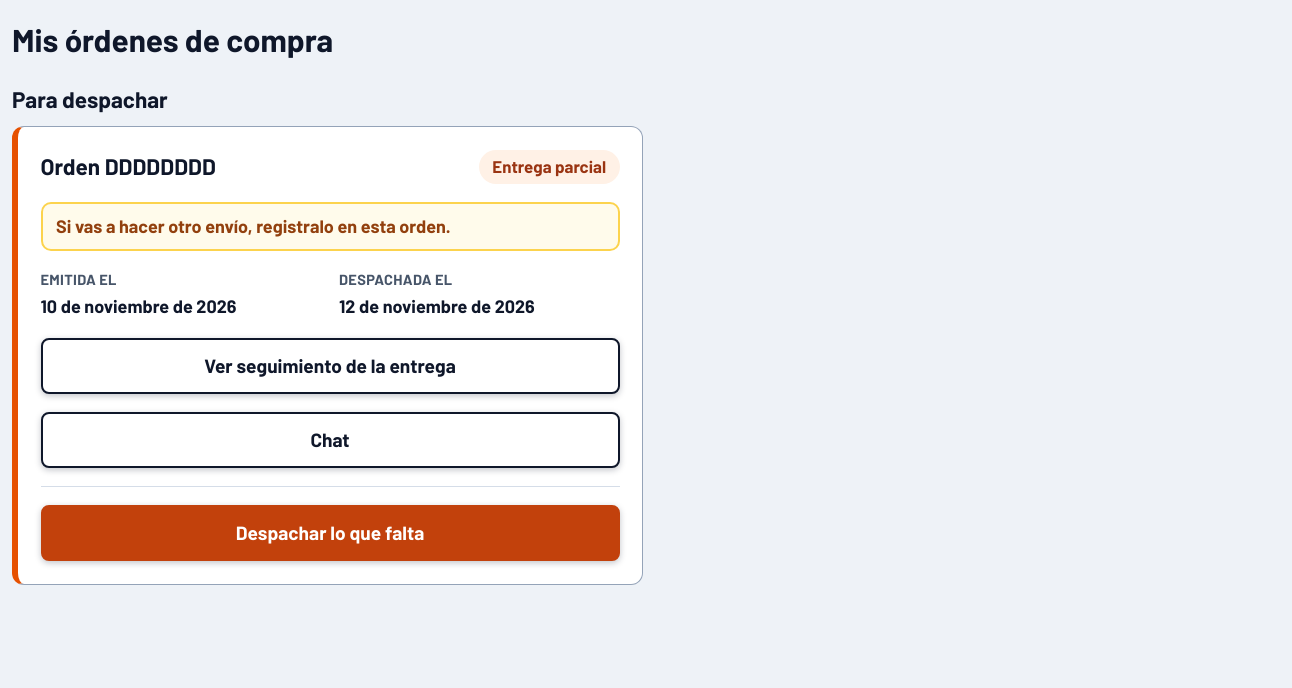
it: MisOrdenesProveedorPage: entrega parcial (#249) › re-despacha el remanente y avisa que Compras y el Capataz ya lo ven
Click the button "Despachar lo que falta" at (330, 533), box [40, 505, 620, 561]
(page scrolled)
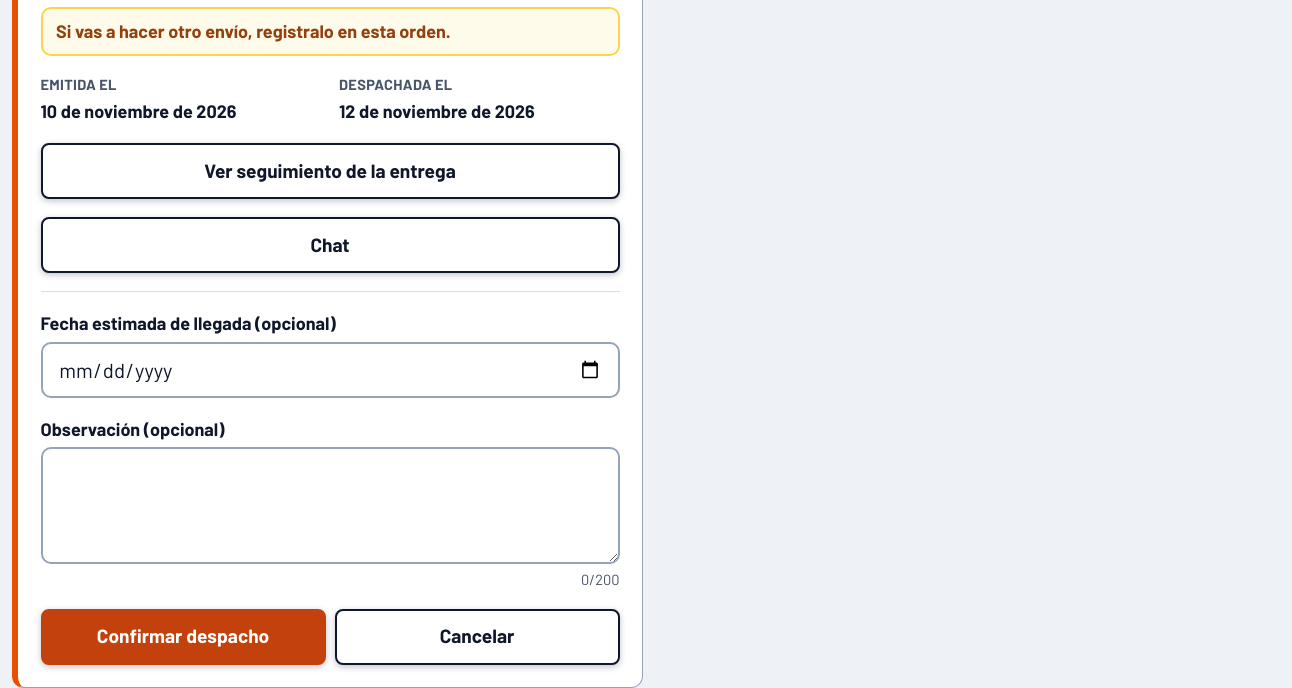
Click the button "Confirmar despacho" at (183, 637), box [40, 609, 326, 665]
(page scrolled)
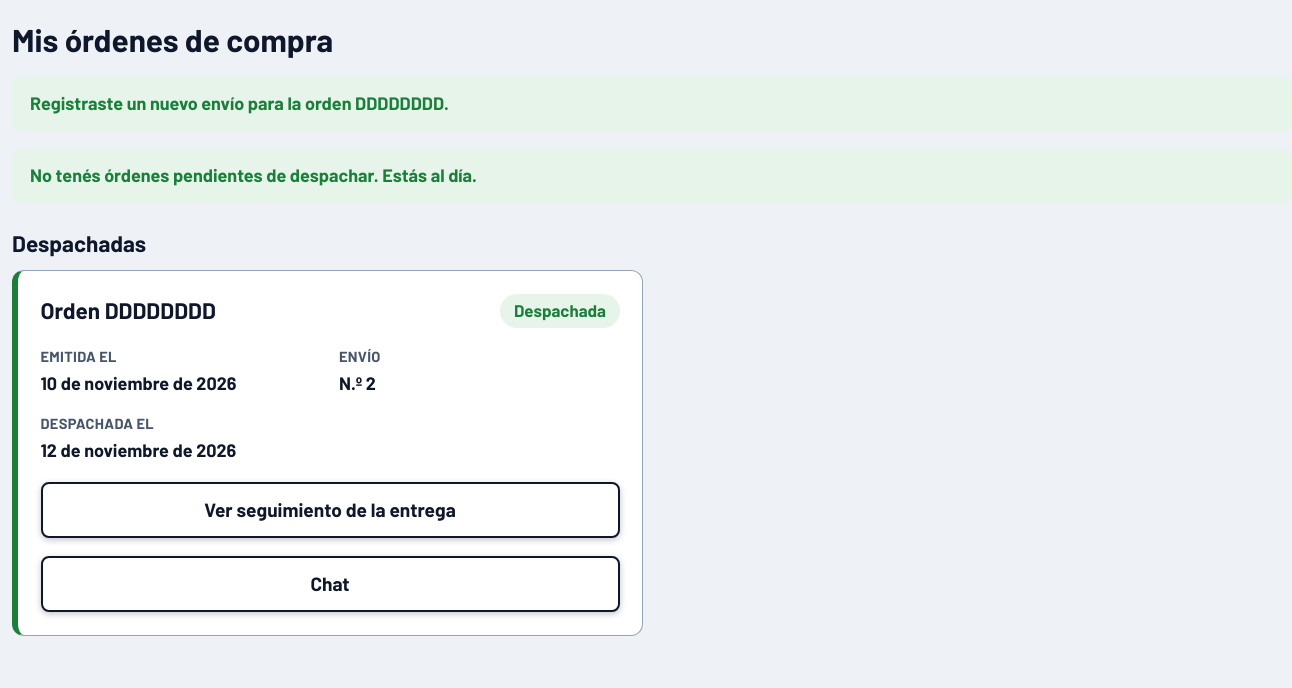
Expected: the button "Despachar lo que falta" is not shown
Now the message shows "Registraste un nuevo envío para la orden DDDDDDDD", box [30, 92, 449, 114]
